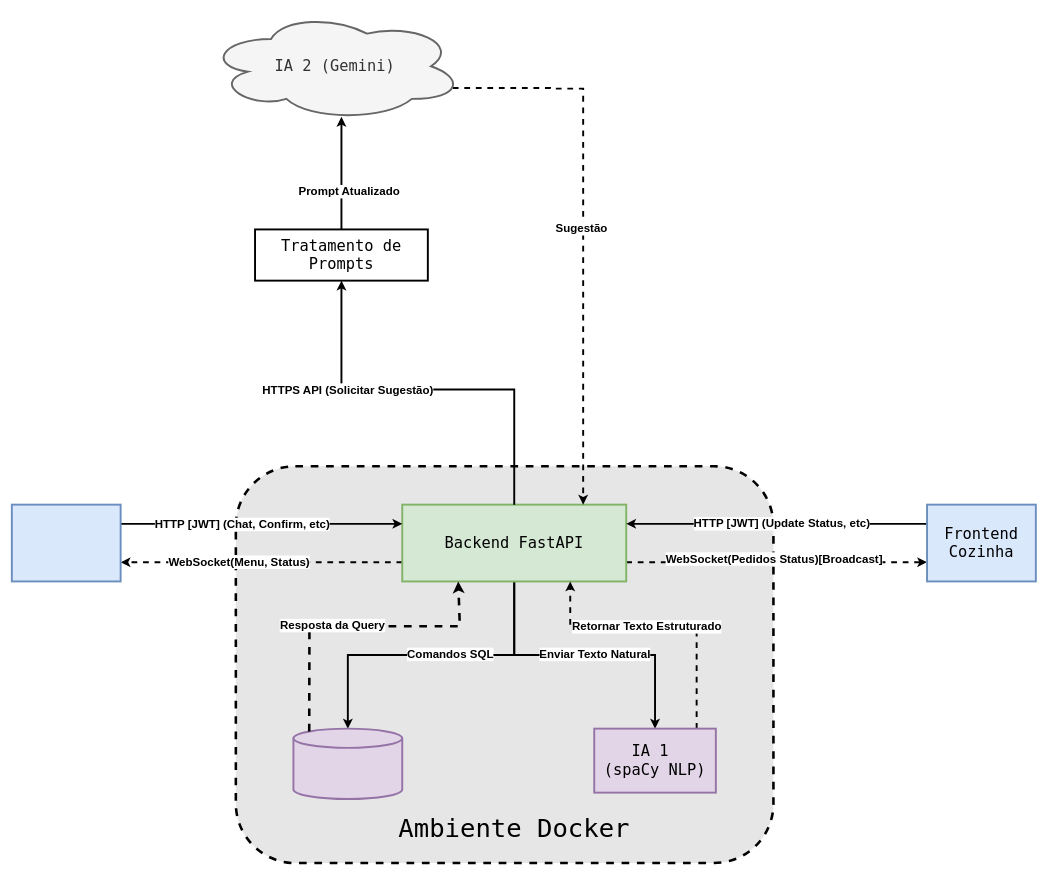
This 1048x876 diagram has some shape labels left out. Each missing label, with the centre of its shape:
Frontend Cliente: point 66,542
PostgreSQL DB: point 347,763
